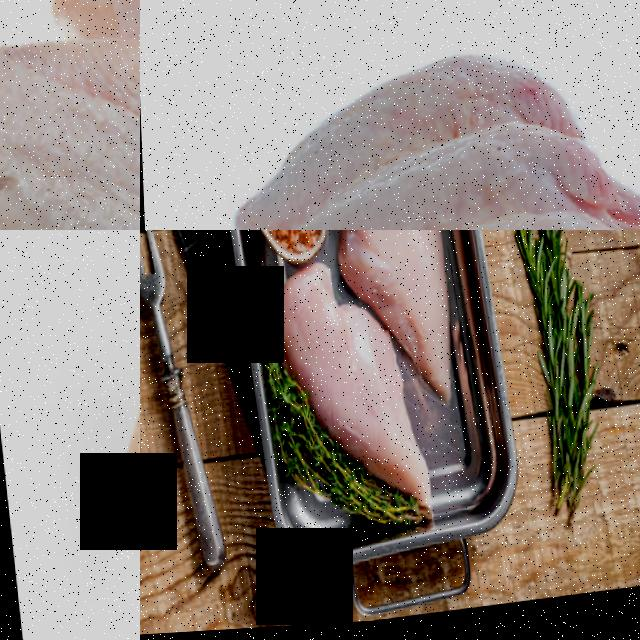chicken breast: (281, 304, 392, 529), (328, 230, 461, 348)
chicken thigh: (101, 305, 140, 602)
chicken wing: (204, 26, 640, 230), (0, 0, 140, 230)
